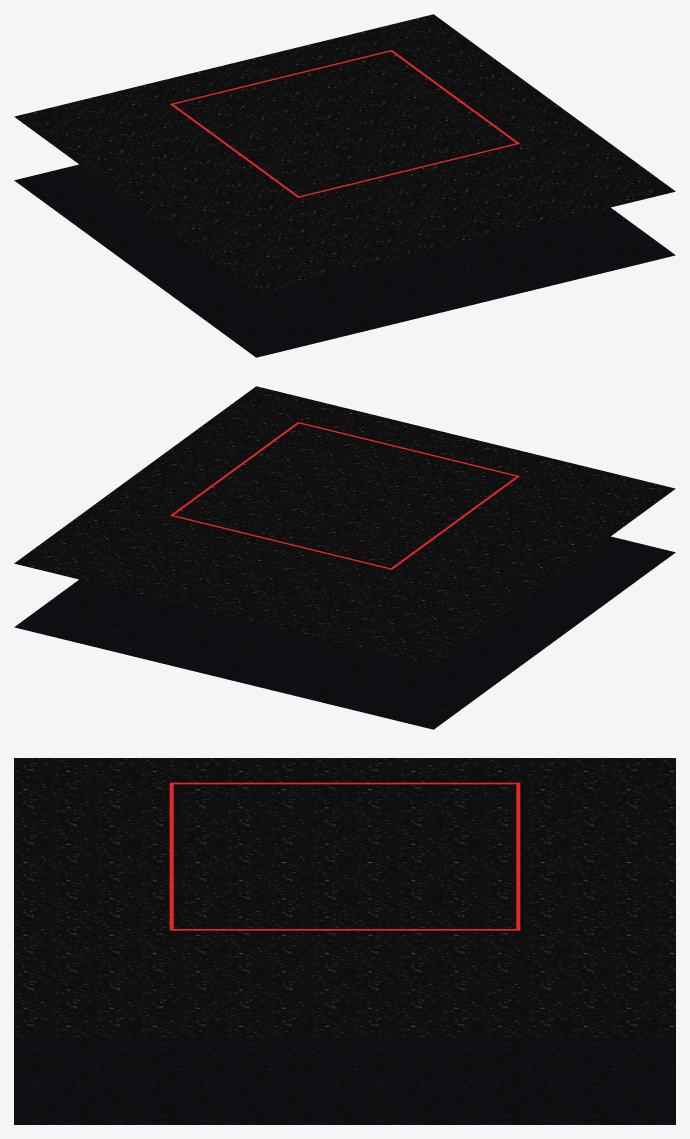
The model's file is ffa.glb.
The picture shows the model from 3 angles, top to bottom: view 1: azimuth 30°, elevation 25°; view 2: azimuth 150°, elevation 25°; view 3: azimuth 270°, elevation 25°; orthographic projection. The views are drawn at different scales.
Parts seen in each view (by area): view 1: bg.002, bg.003, edge; view 2: bg.002, bg.003, edge; view 3: bg.002, bg.003, edge.
Part boxes in pixels (box(x1,y1,x2,y2)): bg.002: box(14, 14, 675, 293); bg.003: box(14, 164, 675, 357); edge: box(170, 50, 519, 197); bg.002: box(14, 386, 675, 665); bg.003: box(14, 536, 675, 729); edge: box(170, 422, 519, 569); bg.002: box(14, 758, 675, 1037); bg.003: box(14, 1038, 675, 1124); edge: box(169, 782, 520, 930).
Size of what is drawn, in the model's own units: 1932 by 413 by 1932.
Materials: 3 (3 with a texture image).
